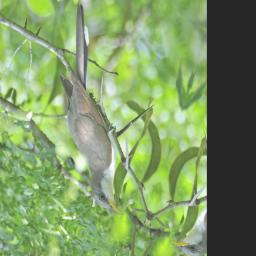Cuckoo: (28, 2, 170, 218)
